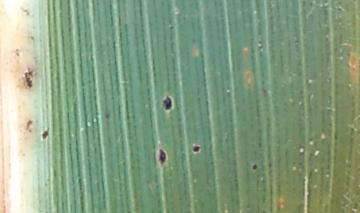tarspot: (21, 67, 36, 90), (156, 146, 168, 167), (162, 95, 173, 113), (24, 119, 34, 136), (17, 4, 31, 16), (40, 126, 51, 141), (191, 143, 201, 154), (334, 5, 343, 14), (13, 47, 21, 57), (168, 23, 177, 31), (103, 112, 111, 120), (250, 162, 257, 171), (29, 34, 36, 41)
